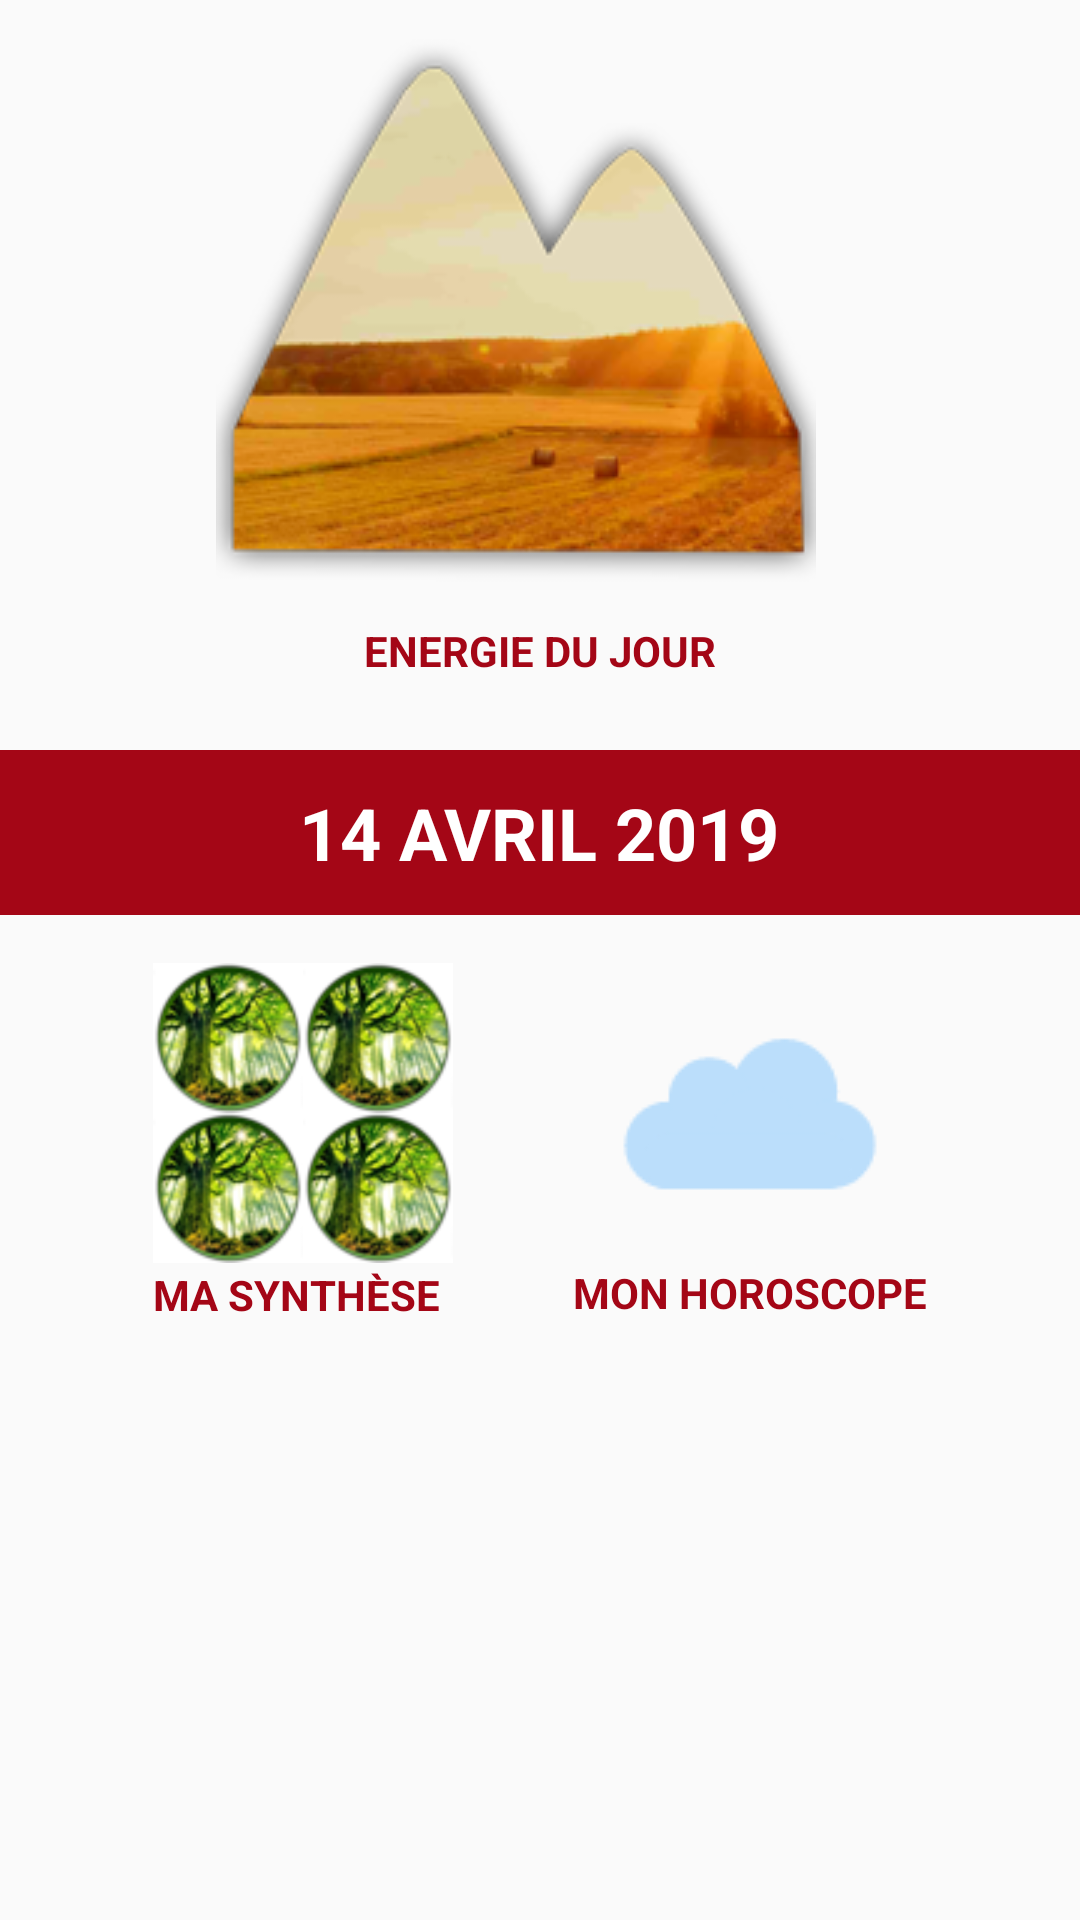

Icon click points for this 1080 x 1920 phone screenshot, format (x,y):
meteo cc accueil: (750,1114)
